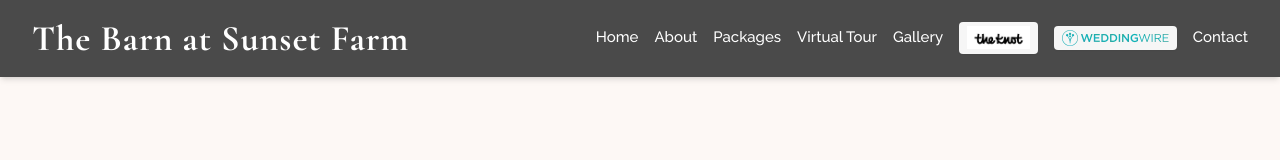
Test: Header inquiry navigation › scrolls to contact after returning from an interior page
Click the button "Contact".
click(1220, 38)  # box [1193, 18, 1248, 58]
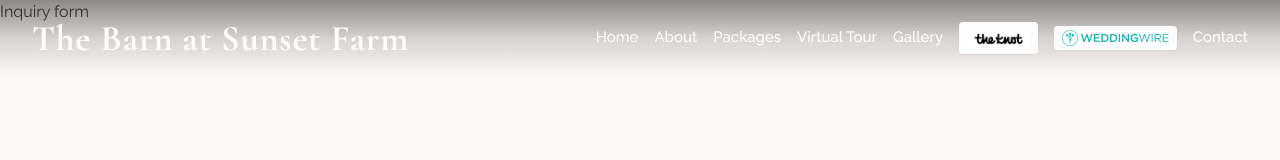
Expected: the text "Inquiry form" is shown, [0, 2, 89, 21]
